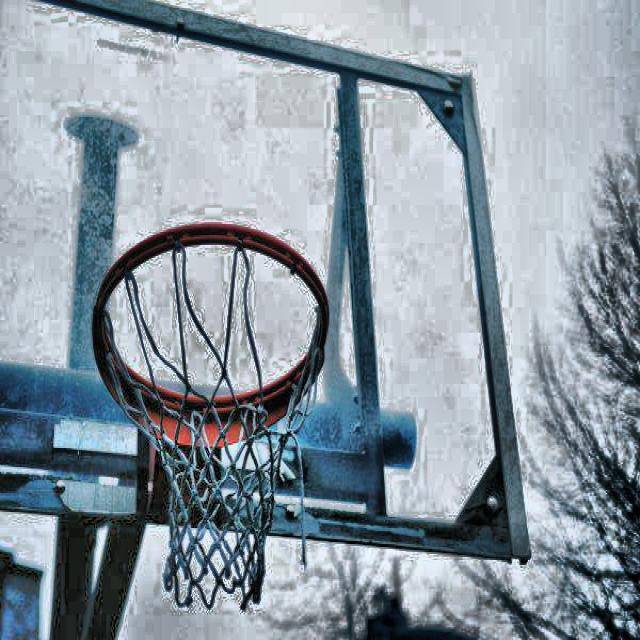rim: (91, 218, 332, 612)
